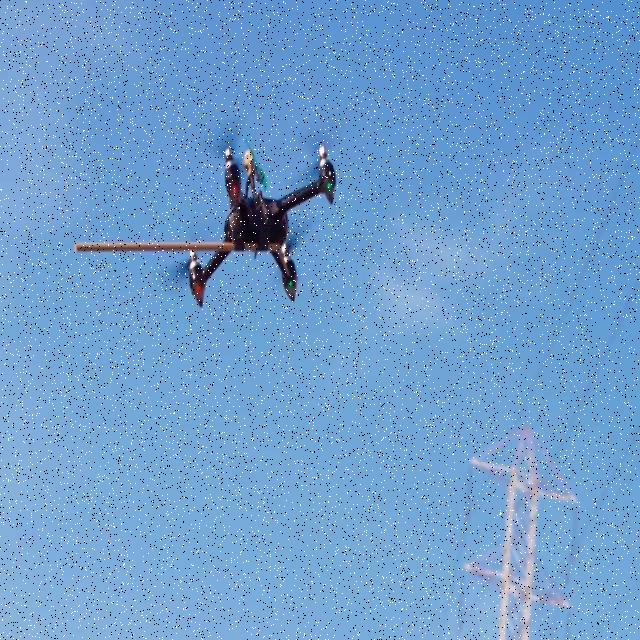UAV: (181, 134, 337, 310)
